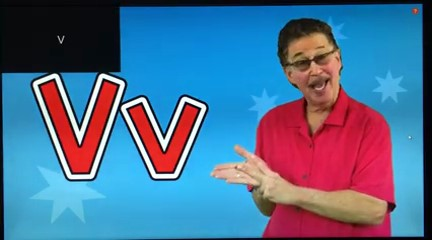V: (206, 139, 298, 209)
